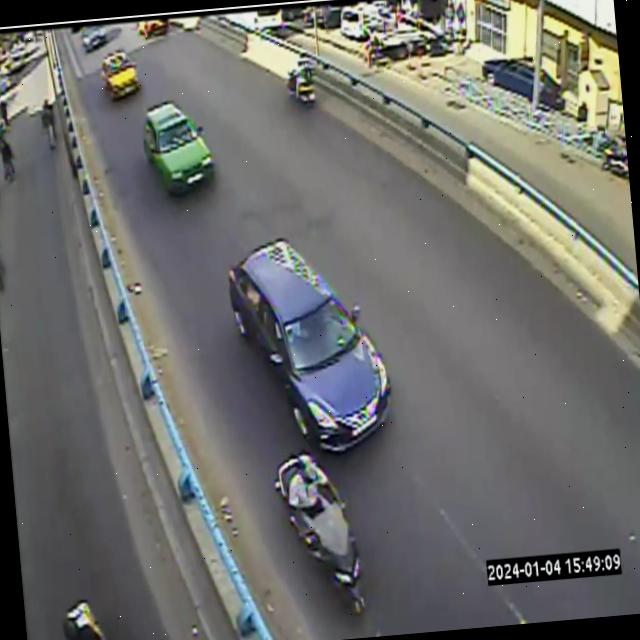car: (228, 238, 390, 451), (143, 101, 213, 192), (101, 49, 139, 98), (81, 25, 106, 51)
